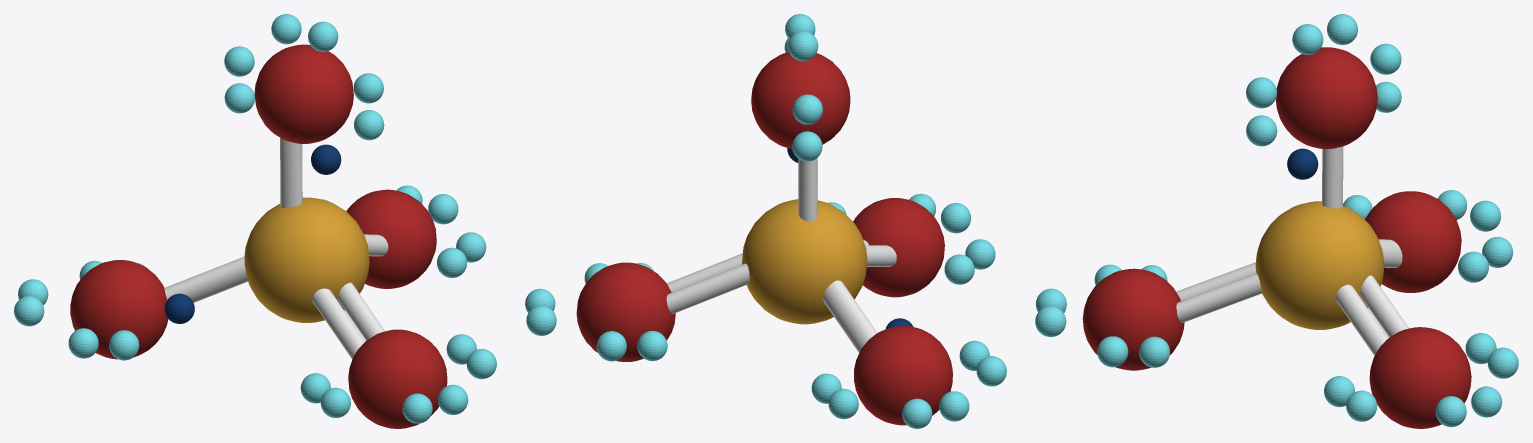
File: sulfate atom.glb
The picture shows the model from 3 angles, left to right: view 1: azimuth 30°, elevation 25°; view 2: azimuth 150°, elevation 25°; view 3: azimuth 270°, elevation 25°; orthographic projection. The views are drawn at different scales.
Parts seen in each view (by area): view 1: Sphere, Sphere.004, Sphere.001, Sphere.002, Sphere.003, Circle.005, Circle.001, Circle, Circle.002, Sphere.005, Sphere.010, Sphere.015 (+18 smaller); view 2: Sphere, Sphere.002, Sphere.004, Sphere.003, Sphere.001, Circle.004, Circle.005, Circle, Circle.003, Sphere.017, Sphere.005, Sphere.022 (+15 smaller); view 3: Sphere, Sphere.004, Sphere.003, Sphere.002, Sphere.001, Circle.002, Circle.003, Circle.004, Circle, Circle.001, Sphere.012, Sphere.008 (+20 smaller).
Boxes of the visible parts, x1,y1,x2,y2 form: Sphere: [244, 197, 369, 322]; Sphere.004: [254, 44, 353, 143]; Sphere.001: [348, 329, 447, 428]; Sphere.002: [70, 260, 168, 359]; Sphere.003: [346, 189, 436, 288]; Circle.005: [164, 256, 247, 302]; Circle.001: [312, 288, 365, 359]; Circle: [280, 137, 302, 207]; Circle.002: [337, 282, 384, 340]; Sphere.005: [271, 14, 301, 44]; Sphere.010: [353, 73, 383, 103]; Sphere.015: [402, 393, 432, 423]; Sphere: [742, 199, 867, 324]; Sphere.002: [854, 326, 952, 425]; Sphere.004: [751, 52, 850, 148]; Sphere.003: [576, 262, 675, 361]; Sphere.001: [853, 198, 944, 297]; Circle.004: [666, 263, 749, 313]; Circle.005: [823, 280, 877, 352]; Circle: [798, 158, 817, 221]; Circle.003: [667, 253, 742, 292]; Sphere.017: [637, 330, 667, 361]; Sphere.005: [788, 31, 818, 61]; Sphere.022: [526, 305, 556, 335]; Sphere: [1255, 201, 1384, 329]; Sphere.004: [1275, 47, 1377, 149]; Sphere.003: [1369, 327, 1471, 428]; Sphere.002: [1365, 191, 1461, 292]; Sphere.001: [1082, 268, 1184, 370]; Circle.002: [1176, 273, 1262, 322]; Circle.003: [1336, 284, 1388, 355]; Circle.004: [1360, 275, 1409, 337]; Circle: [1322, 146, 1343, 208]; Circle.001: [1176, 262, 1256, 300]; Sphere.012: [1097, 336, 1128, 367]; Sphere.008: [1370, 43, 1401, 74].
Bounding box in the file's own units: 6.18 × 4.52 × 5.73.
